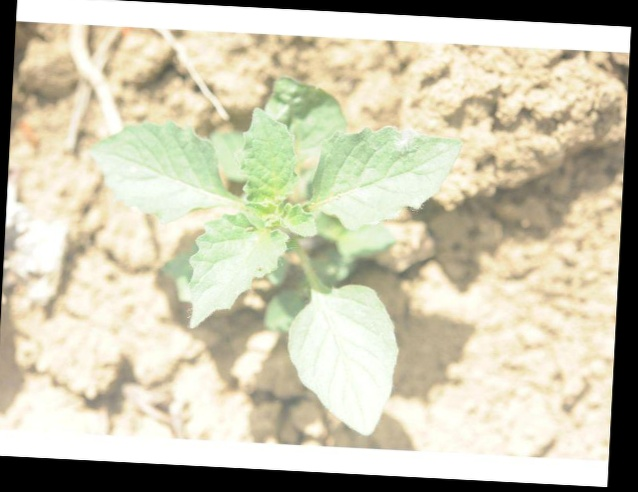nightshade: (84, 76, 459, 430)
